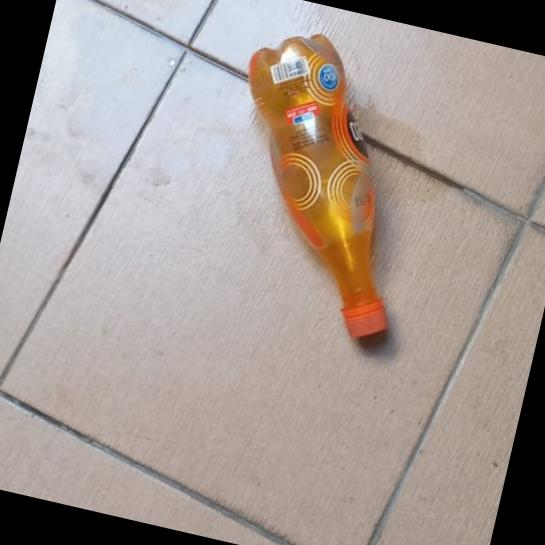Plastik: (194, 20, 448, 345)
